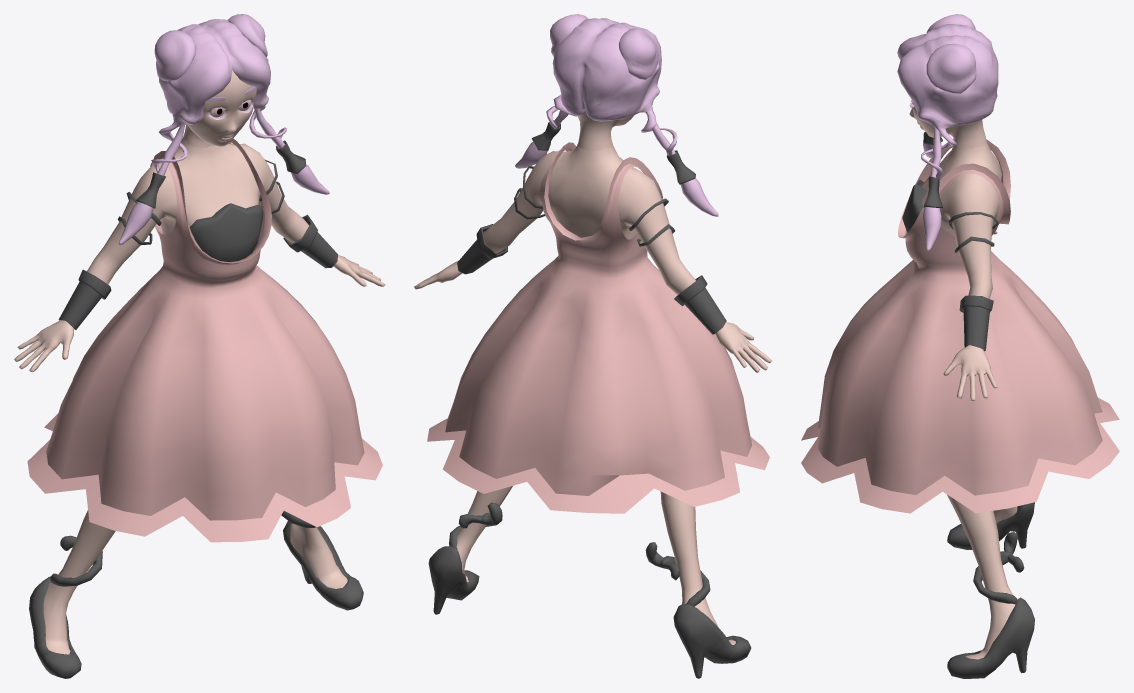
File: venachia opti UV.fbx
3 renders of one model, left to right at view 1: azimuth 30°, elevation 25°; view 2: azimuth 150°, elevation 25°; view 3: azimuth 270°, elevation 25°, orthographic. The views are drawn at different scales.
Parts seen in each view (by area): view 1: Robe, Corp, Base_Cheveux1, Chaussure, Bracelet, Plastron, Tête_Retopo, Chignon, Couette, Anneau_Couette; view 2: Robe, Corp, Base_Cheveux1, Chaussure, Bracelet, Chignon, Couette, Tête_Retopo, Anneau_Couette; view 3: Robe, Corp, Base_Cheveux1, Chaussure, Chignon, Bracelet, Tête_Retopo, Couette, Plastron, Anneau_Couette.
Boxes of the visible parts, <box> form: Robe: <box>27,138,382,542</box>; Corp: <box>14,136,385,654</box>; Base_Cheveux1: <box>151,19,286,172</box>; Chaussure: <box>29,511,363,678</box>; Bracelet: <box>58,159,337,329</box>; Plastron: <box>190,203,263,261</box>; Tête_Retopo: <box>184,70,256,148</box>; Chignon: <box>154,14,267,81</box>; Couette: <box>118,108,329,245</box>; Anneau_Couette: <box>136,140,306,208</box>; Robe: <box>427,142,769,513</box>; Corp: <box>414,144,771,644</box>; Base_Cheveux1: <box>546,18,677,156</box>; Chaussure: <box>428,502,751,678</box>; Bracelet: <box>457,166,726,334</box>; Chignon: <box>550,14,658,79</box>; Couette: <box>515,110,718,216</box>; Tête_Retopo: <box>578,111,634,150</box>; Anneau_Couette: <box>531,120,695,184</box>; Robe: <box>801,139,1119,513</box>; Corp: <box>921,141,1017,659</box>; Base_Cheveux1: <box>897,24,998,178</box>; Chaussure: <box>947,502,1034,678</box>; Chignon: <box>926,14,976,93</box>; Bracelet: <box>949,212,998,351</box>; Tête_Retopo: <box>909,107,986,150</box>; Couette: <box>923,126,941,251</box>; Plastron: <box>902,179,926,232</box>; Anneau_Couette: <box>923,131,942,208</box>.
Size of the model in its own units: 80.33 by 132 by 65.48.
